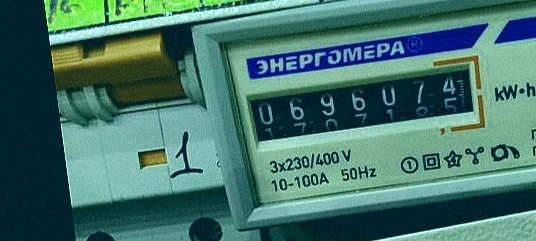0: (253, 99, 275, 126), (378, 80, 397, 107)
4: (438, 71, 457, 96)
5: (442, 94, 459, 114)
6: (285, 93, 307, 122), (347, 86, 367, 112)
7: (407, 76, 428, 105)
9: (315, 90, 337, 117)
screen: (232, 49, 492, 162)
